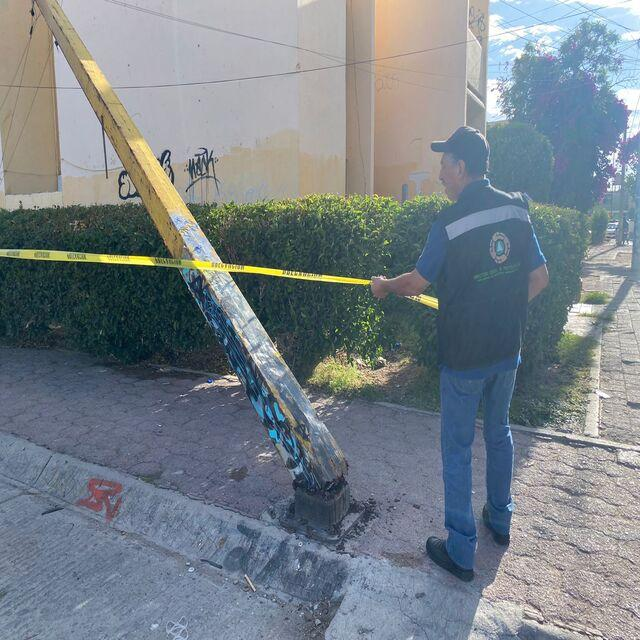Inclined Pole: (28, 0, 355, 532)
